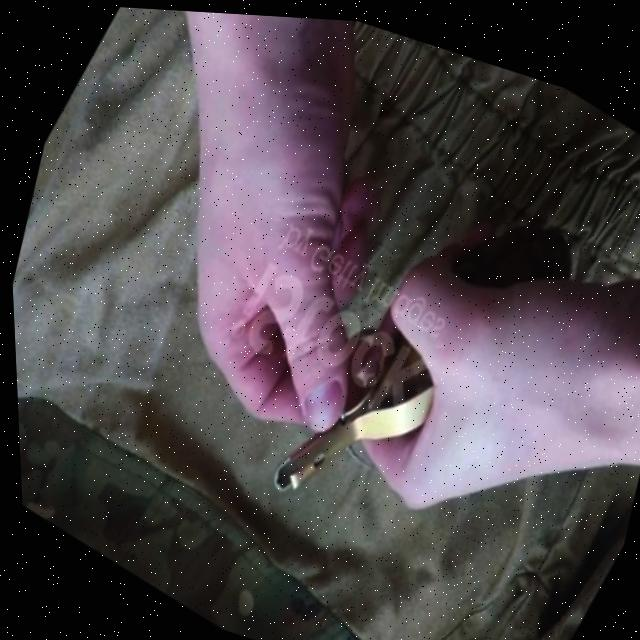grenade: (236, 111, 619, 606)
